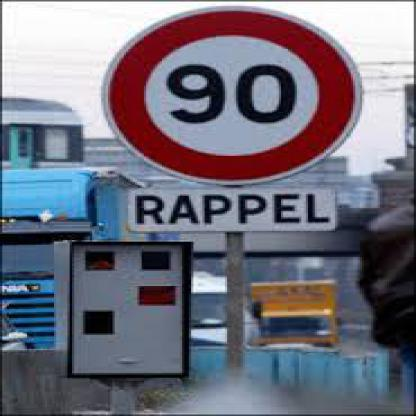Speed Limit 90: (104, 9, 358, 184)
